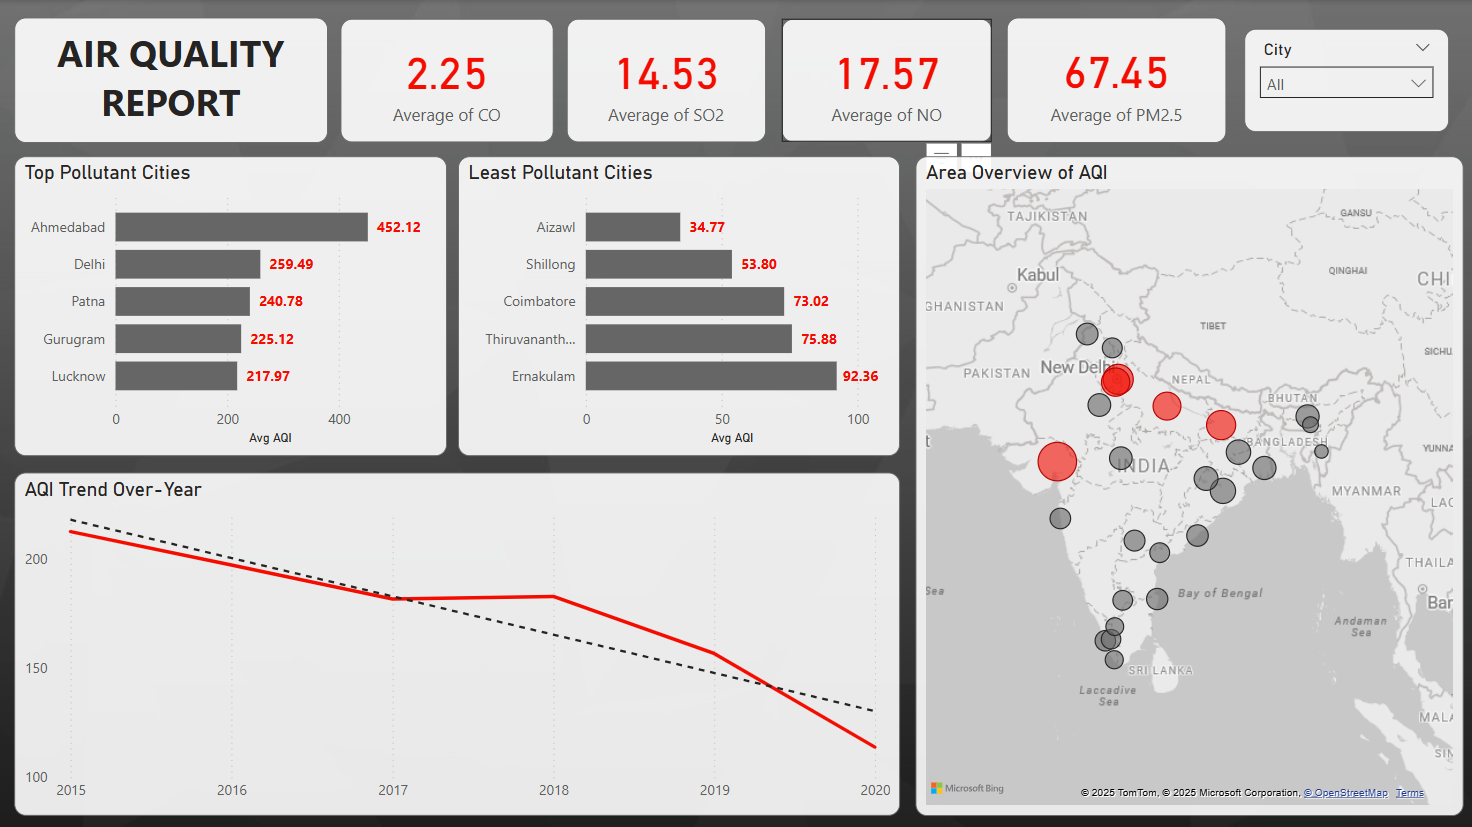

The dashboard page shown, as its layout file describes it:
{"tool":"powerbi","page":{"name":"Page 1","canvas":[1280,720],"ordinal":0},"visuals":[{"type":"lineChart","title":"AQI Trend Over-Year","fields":{"Category":["city_day.Date.Variation.Date Hierarchy.Year","city_day.Date.Variation.Date Hierarchy.Quarter","city_day.Date.Variation.Date Hierarchy.Month","city_day.Date.Variation.Date Hierarchy.Day"],"Y":["Avg(city_day.AQI)"]},"box":[14.3,409.8,768.4,297.8],"z":0},{"type":"slicer","fields":{"Values":["city_day.City"]},"box":[1080.5,25,177.5,89.3],"z":1000},{"type":"barChart","title":"Top Pollutant Cities","fields":{"Category":["city_day.City"],"Y":["Avg(city_day.AQI)"]},"box":[14.3,135.8,375.3,259.7],"z":2000},{"type":"barChart","title":"Least Pollutant Cities","fields":{"Category":["city_day.City"],"Y":["Avg(city_day.AQI)"]},"box":[399.1,135.8,383.6,259.7],"z":3000},{"type":"card","fields":{"Values":["Avg(city_day.CO)"]},"box":[296.6,16.7,184.6,107.2],"z":4000},{"type":"card","fields":{"Values":["Avg(city_day.SO2)"]},"box":[493.2,16.7,172.7,107.2],"z":5000},{"type":"card","fields":{"Values":["Avg(city_day.NO)"]},"box":[679,16.7,182.3,107.2],"z":6000},{"type":"card","fields":{"Values":["Avg(city_day.PM2.5)"]},"box":[874.4,15.5,190.6,108.4],"z":7000},{"type":"map","title":"Area Overview of AQI","fields":{"Size":["Avg(city_day.AQI)"],"Category":["city_day.City"]},"box":[795.8,135.8,475.3,571.8],"z":8000},{"type":"textbox","box":[14.3,15.5,271.6,108.4],"z":9000}]}

Visuals, with their boxes in screenshot pixels (x1, y1, x2, y2), scaled from the page's 1280x720 canvas onto the 1472x827 screenshot:
"AQI Trend Over-Year" lineChart: region(16, 471, 900, 813)
slicer - city_day.City: region(1243, 29, 1447, 131)
"Top Pollutant Cities" barChart: region(16, 156, 448, 454)
"Least Pollutant Cities" barChart: region(459, 156, 900, 454)
card - Avg(city_day.CO): region(341, 19, 553, 142)
card - Avg(city_day.SO2): region(567, 19, 766, 142)
card - Avg(city_day.NO): region(781, 19, 990, 142)
card - Avg(city_day.PM2.5): region(1006, 18, 1225, 142)
"Area Overview of AQI" map: region(915, 156, 1462, 813)
textbox: region(16, 18, 329, 142)
